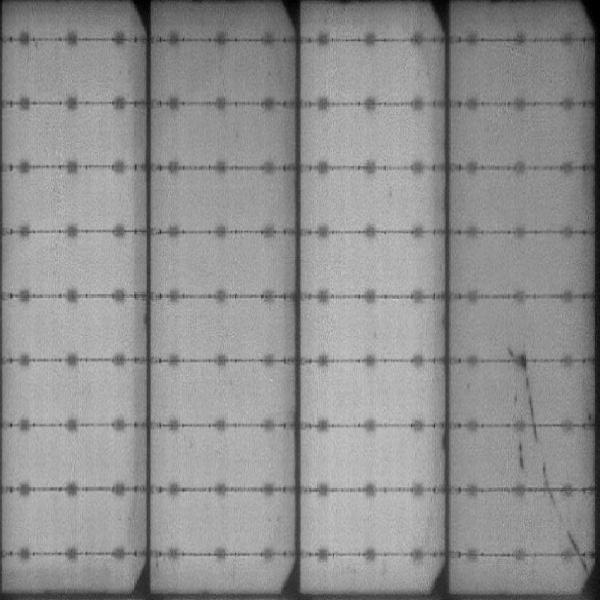scratch: (532, 428, 552, 487), (564, 525, 589, 572), (519, 363, 538, 423), (514, 437, 527, 473)
